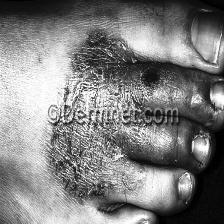Non-Cancerous Skin Condition: (69, 33, 174, 104), (53, 125, 132, 202)
